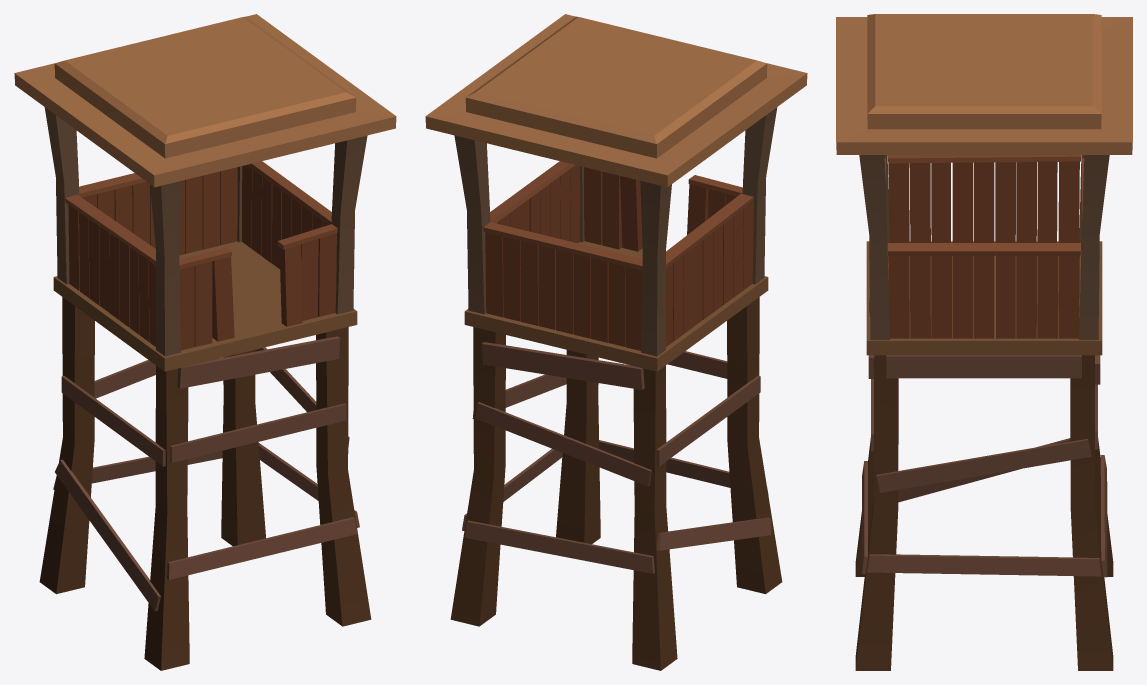
The model's file is TorreDeVigia.fbx.
3 renders of one model, left to right at view 1: azimuth 30°, elevation 25°; view 2: azimuth 150°, elevation 25°; view 3: azimuth 270°, elevation 25°, orthographic. The views are drawn at different scales.
Parts seen in each view (by area): view 1: TelhadoTorreLP, PilarTorreLP, CercaGuaritaLP, TabuasApoioTorreLP, PilarGuaritaLP, BaseTorreLP, ApoioCercaLP; view 2: TelhadoTorreLP, PilarTorreLP, CercaGuaritaLP, TabuasApoioTorreLP, PilarGuaritaLP, BaseTorreLP, ApoioCercaLP; view 3: TelhadoTorreLP, CercaGuaritaLP, PilarTorreLP, TabuasApoioTorreLP, PilarGuaritaLP, BaseTorreLP, ApoioCercaLP.
Boxes of the visible parts, x1=… form: TelhadoTorreLP: x1=14, y1=14, x2=396, y2=187; PilarTorreLP: x1=39, y1=297, x2=371, y2=670; CercaGuaritaLP: x1=68, y1=165, x2=336, y2=350; TabuasApoioTorreLP: x1=53, y1=336, x2=359, y2=611; PilarGuaritaLP: x1=44, y1=107, x2=367, y2=356; BaseTorreLP: x1=53, y1=241, x2=357, y2=371; ApoioCercaLP: x1=65, y1=161, x2=337, y2=269; TelhadoTorreLP: x1=425, y1=14, x2=807, y2=187; PilarTorreLP: x1=450, y1=297, x2=782, y2=670; CercaGuaritaLP: x1=485, y1=165, x2=753, y2=350; TabuasApoioTorreLP: x1=462, y1=342, x2=771, y2=573; PilarGuaritaLP: x1=454, y1=107, x2=777, y2=356; BaseTorreLP: x1=464, y1=241, x2=768, y2=371; ApoioCercaLP: x1=483, y1=161, x2=753, y2=270; TelhadoTorreLP: x1=836, y1=14, x2=1132, y2=154; CercaGuaritaLP: x1=869, y1=161, x2=1079, y2=338; PilarTorreLP: x1=855, y1=355, x2=1113, y2=670; TabuasApoioTorreLP: x1=862, y1=355, x2=1107, y2=577; PilarGuaritaLP: x1=859, y1=155, x2=1109, y2=339; BaseTorreLP: x1=866, y1=241, x2=1102, y2=355; ApoioCercaLP: x1=884, y1=155, x2=1084, y2=255.
Bounding box in the file's own units: 303 × 626 × 303.
